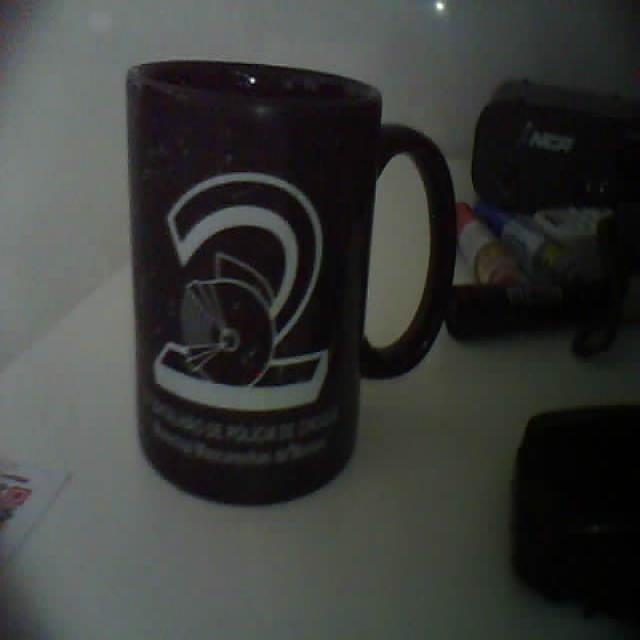caneca: (128, 60, 454, 503)
